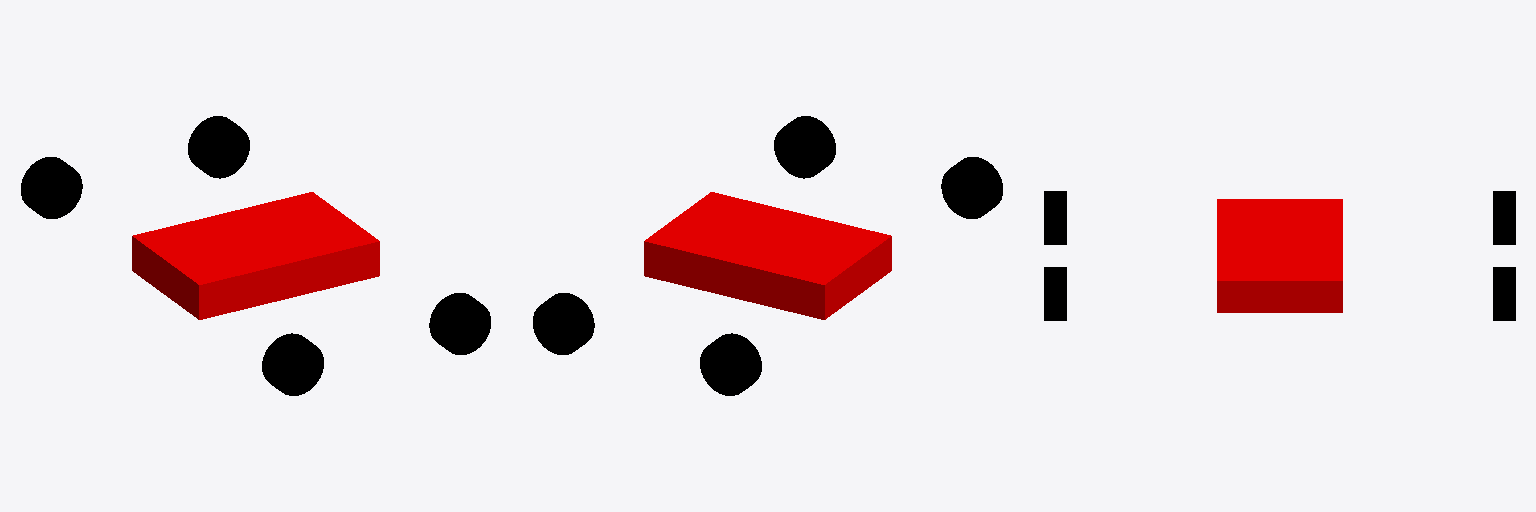
The robot description file, URDF, robot "ares":
<?xml version="1.0"?>
<robot name="ares">

	<material name="red">
		<color rgba="1 0 0 1"/>
	</material>

	<material name="black">
		<color rgba="0 0 0 1"/>
	</material>




	<link name="base_footprint"/>

	<joint name="base_joint" type="fixed">
    	<parent link="base_footprint"/>
    	<child link="base_link"/>
    	<origin xyz="0.0 0.0 0.050" rpy="0 0 0"/>
  	</joint>


	<link name="base_link">
		<visual>
			<geometry>
				<box size="0.432 0.280 0.08"/>
				<origin rpy="0 0 0" xyz="0 0 0.05"/>
			</geometry>
			<material name="red"/>
		</visual>
	</link>


	<link name="left_rear_wheel_link">
		<visual>
			<geometry>
				<cylinder length="0.05" radius="0.06"/>
				<origin rpy="0 0 0" xyz="0 0 0"/>
			</geometry>
			<material name="black"/>
		</visual>
	</link>

	<joint name="base_to_left_rear_wheel" type="continuous">
		<parent link="base_link"/>
		<child link="left_rear_wheel_link"/>
		<axis xyz="0 0 1"/>
		<origin rpy="1.57075 0 0" xyz="-0.2 0.5 0"/>
	</joint>

	<link name="left_front_wheel_link">
		<visual>
			<geometry>
				<cylinder length="0.05" radius="0.06"/>
				<origin rpy="0 0 0" xyz="0 0 0"/>
			</geometry>
			<material name="black"/>
		</visual>
	</link>

	<joint name="base_to_left_front_wheel" type="continuous">
		<parent link="base_link"/>
		<child link="left_front_wheel_link"/>
		<axis xyz="0 0 1"/>
		<origin rpy="1.57075 0 0" xyz="0.2 0.5 0"/>
	</joint>

	<link name="right_rear_wheel_link">
		<visual>
			<geometry>
				<cylinder length="0.05" radius="0.06"/>
				<origin rpy="0 0 0" xyz="0 0 0"/>
			</geometry>
			<material name="black"/>
		</visual>
	</link>

	<joint name="base_to_right_rear_wheel" type="continuous">
		<parent link="base_link"/>
		<child link="right_rear_wheel_link"/>
		<axis xyz="0 0 1"/>
		<origin rpy="1.57075 0 0" xyz="-0.2 -0.5 0"/>
	</joint>

	<link name="right_front_wheel_link">
		<visual>
			<geometry>
				<cylinder length="0.05" radius="0.06"/>
				<origin rpy="0 0 0" xyz="0 0 0"/>
			</geometry>
			<material name="black"/>
		</visual>
	</link>

	<joint name="base_to_right_front_wheel" type="continuous">
		<parent link="base_link"/>
		<child link="right_front_wheel_link"/>
		<axis xyz="0 0 1"/>
		<origin rpy="1.57075 0 0" xyz="0.2 -0.5 0"/>
	</joint>

</robot>

--- What the picture shows (computed from the rendered views, not written in the file) ---
The picture shows the robot from 3 angles, left to right: view 1: azimuth 30°, elevation 25°; view 2: azimuth 150°, elevation 25°; view 3: azimuth 270°, elevation 25°; orthographic projection.
Robot: ares — 6 links, 5 joints (4 continuous, 1 fixed); root link base_footprint; default pose: every joint at zero.
Visible links, largest first — view 1: base_link, left_front_wheel_link, right_rear_wheel_link, left_rear_wheel_link, right_front_wheel_link; view 2: base_link, left_rear_wheel_link, right_front_wheel_link, left_front_wheel_link, right_rear_wheel_link; view 3: base_link, left_rear_wheel_link, left_front_wheel_link, right_rear_wheel_link, right_front_wheel_link.
Link boxes in pixels (x1=…): base_link: x1=132, y1=192, x2=379, y2=319; left_front_wheel_link: x1=188, y1=116, x2=249, y2=178; right_rear_wheel_link: x1=262, y1=333, x2=323, y2=395; left_rear_wheel_link: x1=21, y1=157, x2=82, y2=218; right_front_wheel_link: x1=429, y1=293, x2=490, y2=354; base_link: x1=644, y1=192, x2=891, y2=319; left_rear_wheel_link: x1=700, y1=333, x2=761, y2=395; right_front_wheel_link: x1=774, y1=116, x2=835, y2=178; left_front_wheel_link: x1=533, y1=293, x2=594, y2=354; right_rear_wheel_link: x1=941, y1=157, x2=1002, y2=218; base_link: x1=1217, y1=199, x2=1342, y2=312; left_rear_wheel_link: x1=1493, y1=191, x2=1515, y2=244; left_front_wheel_link: x1=1493, y1=267, x2=1515, y2=320; right_rear_wheel_link: x1=1044, y1=191, x2=1066, y2=244; right_front_wheel_link: x1=1044, y1=267, x2=1066, y2=320.
Size in the robot's own frame: 0.52 by 1.05 by 0.12 metres.
Geometry: primitives only (box / cylinder / sphere), no mesh files.